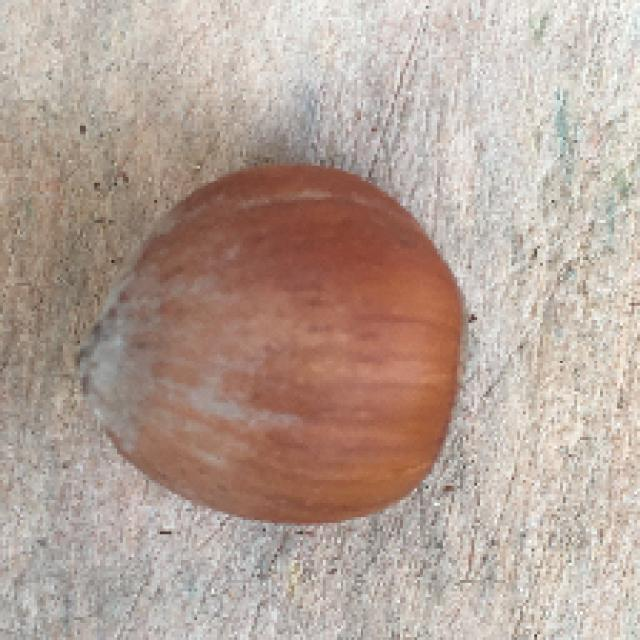QualityHazelnut: (80, 161, 469, 528)
